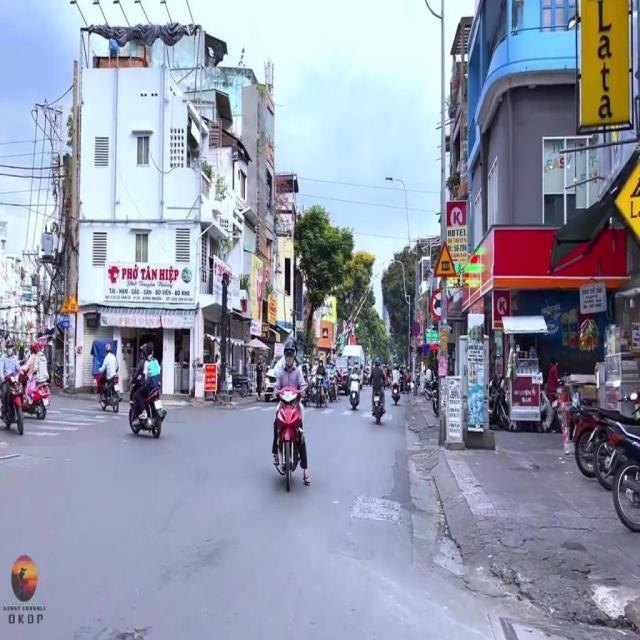106-cam-oto-tai: (430, 290, 442, 322)
